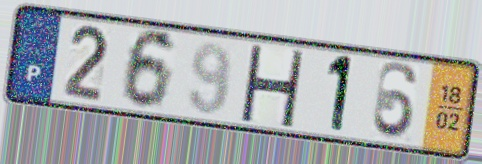1: (321, 52, 356, 138)
2: (61, 23, 111, 105)
6: (116, 27, 182, 115), (370, 60, 421, 144)
9: (186, 39, 237, 117)
H: (236, 42, 308, 130)
